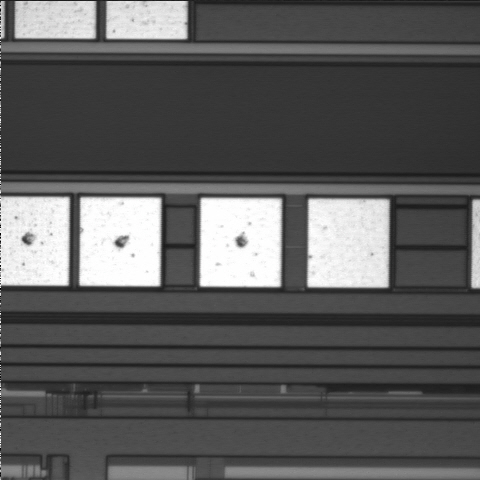pad: (79, 197, 161, 286), (200, 198, 282, 287), (307, 199, 389, 287)
